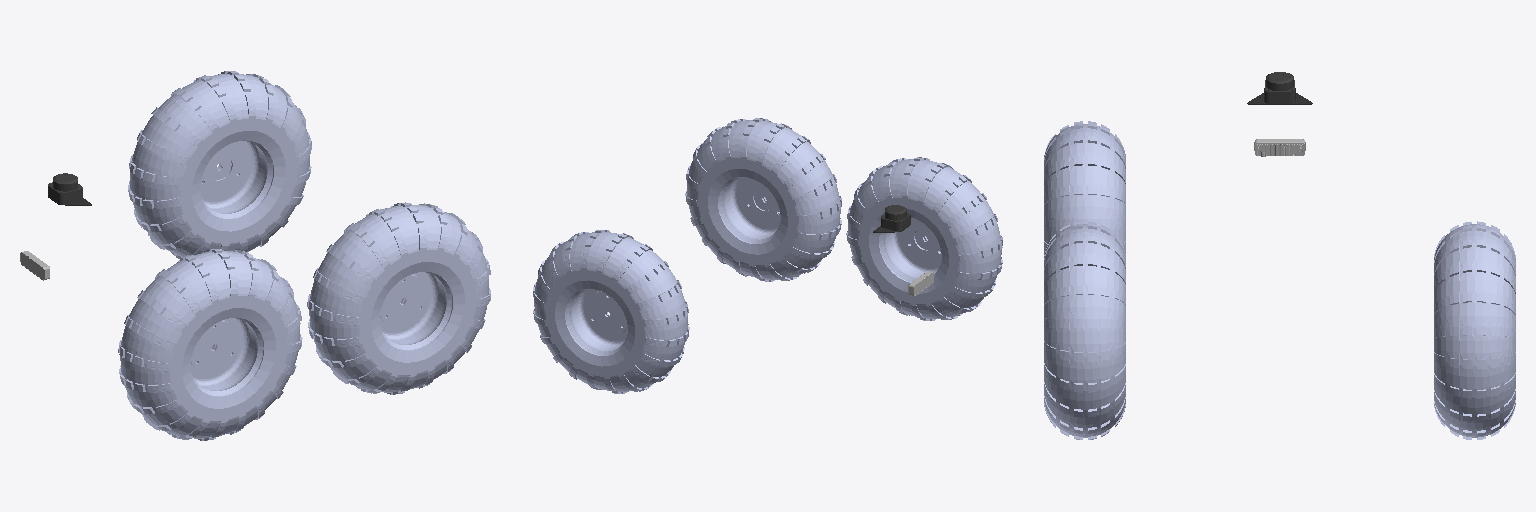
The robot description file, URDF, robot "four_w_amr":
<?xml version="1.0" encoding="utf-8"?>
<!-- This URDF was automatically created by SolidWorks to URDF Exporter! Originally created by [author] ([email redacted]) 
     Commit Version: 1.6.0-1-g15f4949  Build Version: 1.6.7594.29634
     For more information, please see http://wiki.ros.org/sw_urdf_exporter -->
<robot
  name="four_w_amr">
  <link
    name="base_link">
    <inertial>
      <origin
        xyz="0.00132416201656352 -4.00565660888191E-05 0.093887625159828"
        rpy="0 0 0" />
      <mass
        value="17.8411234664058" />
      <inertia
        ixx="0.328687588345585"
        ixy="2.75858430566931E-06"
        ixz="1.36193497080432E-09"
        iyy="0.943624110989737"
        iyz="-2.0065714008513E-05"
        izz="1.20132457872936" />
    </inertial>
    <visual>
      <origin
        xyz="0 0 0"
        rpy="0 0 0" />
      <geometry>
        <mesh
          filename="package://four_w_amr/meshes/base_link.STL" />
      </geometry>
      <material
        name="">
        <color
          rgba="0.898039215686275 0.917647058823529 0.929411764705882 1" />
      </material>
    </visual>
    <collision>
      <origin
        xyz="0 0 0"
        rpy="0 0 0" />
      <geometry>
        <mesh
          filename="package://four_w_amr/meshes/base_link.STL" />
      </geometry>
    </collision>
  </link>
  <link
    name="front_left_link">
    <inertial>
      <origin
        xyz="-5.61791044517701E-08 1.2103102539629E-07 -0.00662845703313497"
        rpy="0 0 0" />
      <mass
        value="1.97267456623346" />
      <inertia
        ixx="0.0170661388139624"
        ixy="3.38062083817817E-08"
        ixz="6.07545764173623E-09"
        iyy="0.0170661785645029"
        iyz="-1.47796904219559E-08"
        izz="0.0284885448647056" />
    </inertial>
    <visual>
      <origin
        xyz="0 0 0"
        rpy="0 0 0" />
      <geometry>
        <mesh
          filename="package://four_w_amr/meshes/front_left_link.STL" />
      </geometry>
      <material
        name="">
        <color
          rgba="0.792156862745098 0.819607843137255 0.933333333333333 1" />
      </material>
    </visual>
    <collision>
      <origin
        xyz="0 0 0"
        rpy="0 0 0" />
      <geometry>
        <mesh
          filename="package://four_w_amr/meshes/front_left_link.STL" />
      </geometry>
    </collision>
  </link>
  <joint
    name="front_left_joint"
    type="continuous">
    <origin
      xyz="-0.2115 -0.3575 0.038368"
      rpy="-1.5708 0 3.1416" />
    <parent
      link="base_link" />
    <child
      link="front_left_link" />
    <axis
      xyz="0 0 1" />
    <limit
      effort="15"
      velocity="6" />
    <dynamics
      damping="0.1"
      friction="0.1" />
  </joint>
  <link
    name="front_right_link">
    <inertial>
      <origin
        xyz="5.6179104590548E-08 1.21031025403229E-07 0.00662845703313492"
        rpy="0 0 0" />
      <mass
        value="1.97267456623345" />
      <inertia
        ixx="0.0170661388139623"
        ixy="-3.38062084587242E-08"
        ixz="6.0754576444626E-09"
        iyy="0.0170661785645029"
        iyz="1.47796904056695E-08"
        izz="0.0284885448647054" />
    </inertial>
    <visual>
      <origin
        xyz="0 0 0"
        rpy="0 0 0" />
      <geometry>
        <mesh
          filename="package://four_w_amr/meshes/front_right_link.STL" />
      </geometry>
      <material
        name="">
        <color
          rgba="0.792156862745098 0.819607843137255 0.933333333333333 1" />
      </material>
    </visual>
    <collision>
      <origin
        xyz="0 0 0"
        rpy="0 0 0" />
      <geometry>
        <mesh
          filename="package://four_w_amr/meshes/front_right_link.STL" />
      </geometry>
    </collision>
  </link>
  <joint
    name="front_right_joint"
    type="continuous">
    <origin
      xyz="-0.2115 0.3575 0.038368"
      rpy="-1.5708 0 3.1416" />
    <parent
      link="base_link" />
    <child
      link="front_right_link" />
    <axis
      xyz="0 0 -1" />
    <limit
      effort="15"
      velocity="6" />
    <dynamics
      damping="0.1"
      friction="0.1" />
  </joint>
  <link
    name="back_right_link">
    <inertial>
      <origin
        xyz="5.61791046460591E-08 1.21031025070162E-07 0.00662845703313508"
        rpy="0 0 0" />
      <mass
        value="1.97267456623344" />
      <inertia
        ixx="0.0170661388139624"
        ixy="-3.3806208436567E-08"
        ixz="6.07545762905059E-09"
        iyy="0.0170661785645027"
        iyz="1.47796903984498E-08"
        izz="0.0284885448647054" />
    </inertial>
    <visual>
      <origin
        xyz="0 0 0"
        rpy="0 0 0" />
      <geometry>
        <mesh
          filename="package://four_w_amr/meshes/back_right_link.STL" />
      </geometry>
      <material
        name="">
        <color
          rgba="0.792156862745098 0.819607843137255 0.933333333333333 1" />
      </material>
    </visual>
    <collision>
      <origin
        xyz="0 0 0"
        rpy="0 0 0" />
      <geometry>
        <mesh
          filename="package://four_w_amr/meshes/back_right_link.STL" />
      </geometry>
    </collision>
  </link>
  <joint
    name="back_right_joint"
    type="continuous">
    <origin
      xyz="0.2115 0.3575 0.038368"
      rpy="-1.5708 0 3.1416" />
    <parent
      link="base_link" />
    <child
      link="back_right_link" />
    <axis
      xyz="0 0 -1" />
    <limit
      effort="15"
      velocity="6" />
    <dynamics
      damping="0.1"
      friction="0.1" />
  </joint>
  <link
    name="back_left_link">
    <inertial>
      <origin
        xyz="5.61791043407478E-08 1.21031025576701E-07 0.00662845703313508"
        rpy="0 0 0" />
      <mass
        value="1.97267456623345" />
      <inertia
        ixx="0.0170661388139623"
        ixy="-3.38062083903782E-08"
        ixz="6.07545766614404E-09"
        iyy="0.0170661785645028"
        iyz="1.47796904238501E-08"
        izz="0.0284885448647054" />
    </inertial>
    <visual>
      <origin
        xyz="0 0 0"
        rpy="0 0 0" />
      <geometry>
        <mesh
          filename="package://four_w_amr/meshes/back_left_link.STL" />
      </geometry>
      <material
        name="">
        <color
          rgba="0.792156862745098 0.819607843137255 0.933333333333333 1" />
      </material>
    </visual>
    <collision>
      <origin
        xyz="0 0 0"
        rpy="0 0 0" />
      <geometry>
        <mesh
          filename="package://four_w_amr/meshes/back_left_link.STL" />
      </geometry>
    </collision>
  </link>
  <joint
    name="back_left_joint"
    type="continuous">
    <origin
      xyz="0.2115 -0.3575 0.038368"
      rpy="-1.5708 0 0" />
    <parent
      link="base_link" />
    <child
      link="back_left_link" />
    <axis
      xyz="0 0 -1" />
    <limit
      effort="15"
      velocity="6" />
    <dynamics
      damping="0.1"
      friction="0.1" />
  </joint>
  <link
    name="lidar_link">
    <inertial>
      <origin
        xyz="1.23660133061199E-06 -8.84795212065957E-08 -0.0229335585473118"
        rpy="0 0 0" />
      <mass
        value="0.102964031832174" />
      <inertia
        ixx="3.53904087980356E-05"
        ixy="5.8993783465795E-14"
        ixz="-1.54015899863962E-09"
        iyy="3.53873606071173E-05"
        iyz="2.08507446415272E-10"
        izz="4.37195711738173E-05" />
    </inertial>
    <visual>
      <origin
        xyz="0 0 0"
        rpy="0 0 0" />
      <geometry>
        <mesh
          filename="package://four_w_amr/meshes/lidar_link.STL" />
      </geometry>
      <material
        name="">
        <color
          rgba="0.298039215686275 0.298039215686275 0.298039215686275 1" />
      </material>
    </visual>
    <collision>
      <origin
        xyz="0 0 0"
        rpy="0 0 0" />
      <geometry>
        <mesh
          filename="package://four_w_amr/meshes/lidar_link.STL" />
      </geometry>
    </collision>
  </link>
  <joint
    name="lidar_joint"
    type="continuous">
    <origin
      xyz="-0.33522 0 0.28431"
      rpy="0 0 3.1416" />
    <parent
      link="base_link" />
    <child
      link="lidar_link" />
    <axis
      xyz="0 0 1" />
    <limit
      effort="1"
      velocity="1" />
    <dynamics
      damping="0.1"
      friction="0.1" />
  </joint>
  <link
    name="realsense_link">
    <inertial>
      <origin
        xyz="-0.00802647627990055 0.000192368576515587 0.000102433817246436"
        rpy="0 0 0" />
      <mass
        value="0.0200496143535985" />
      <inertia
        ixx="1.51661130781659E-05"
        ixy="1.97324525450553E-09"
        ixz="-4.68000006067364E-09"
        iyy="1.55788303975685E-06"
        iyz="1.44223594502936E-08"
        izz="1.39532379059951E-05" />
    </inertial>
    <visual>
      <origin
        xyz="0 0 0"
        rpy="0 0 0" />
      <geometry>
        <mesh
          filename="package://four_w_amr/meshes/realsense_link.STL" />
      </geometry>
      <material
        name="">
        <color
          rgba="0.752941176470588 0.752941176470588 0.752941176470588 1" />
      </material>
    </visual>
    <collision>
      <origin
        xyz="0 0 0"
        rpy="0 0 0" />
      <geometry>
        <mesh
          filename="package://four_w_amr/meshes/realsense_link.STL" />
      </geometry>
    </collision>
  </link>
  <joint
    name="realsense_joint"
    type="fixed">
    <origin
      xyz="-0.40975 0 0.112"
      rpy="0 0 3.1416" />
    <parent
      link="base_link" />
    <child
      link="realsense_link" />
    <axis
      xyz="0 0 0" />
  </joint>
  <link
    name="top_plate_link">
    <inertial>
      <origin
        xyz="5.55111512312578E-17 1.42910579648926E-17 -0.00100000000000003"
        rpy="0 0 0" />
      <mass
        value="0.0112364696805726" />
      <inertia
        ixx="7.96956397299821E-06"
        ixy="7.61358133759553E-21"
        ixz="1.07395448339795E-21"
        iyy="2.69451472759011E-06"
        iyz="-1.16024066035317E-21"
        izz="1.06565877208013E-05" />
    </inertial>
    <visual>
      <origin
        xyz="0 0 0"
        rpy="0 0 0" />
      <geometry>
        <mesh
          filename="package://four_w_amr/meshes/top_plate_link.STL" />
      </geometry>
      <material
        name="">
        <color
          rgba="0.250980392156863 0.250980392156863 0.250980392156863 1" />
      </material>
    </visual>
    <collision>
      <origin
        xyz="0 0 0"
        rpy="0 0 0" />
      <geometry>
        <mesh
          filename="package://four_w_amr/meshes/top_plate_link.STL" />
      </geometry>
    </collision>
  </link>
  <joint
    name="top_plate_joint"
    type="fixed">
    <origin
      xyz="-0.331046700913836 0 0.243009667991878"
      rpy="0 0 3.14159265358979" />
    <parent
      link="base_link" />
    <child
      link="top_plate_link" />
    <axis
      xyz="0 0 0" />
  </joint>
</robot>

--- Facts derived from the render (not from the file) ---
The picture shows the robot from 3 angles, left to right: view 1: azimuth 30°, elevation 25°; view 2: azimuth 150°, elevation 25°; view 3: azimuth 270°, elevation 25°; orthographic projection.
Robot: four_w_amr — 8 links, 7 joints (5 continuous, 2 fixed); root link base_link; default pose: all joints at 0.
Visible links, largest first — view 1: back_left_link, front_left_link, back_right_link, lidar_link; view 2: back_left_link, back_right_link, front_left_link, lidar_link; view 3: back_right_link, back_left_link, front_left_link, lidar_link, realsense_link.
Boxes of the visible links, x1,y1,x2,y2 form: back_left_link: [307, 202, 490, 394]; front_left_link: [118, 249, 302, 440]; back_right_link: [128, 71, 311, 258]; lidar_link: [48, 173, 82, 203]; back_left_link: [685, 118, 841, 281]; back_right_link: [533, 230, 689, 393]; front_left_link: [846, 157, 1002, 320]; lidar_link: [881, 205, 910, 231]; back_right_link: [1434, 221, 1515, 439]; back_left_link: [1044, 221, 1125, 439]; front_left_link: [1044, 121, 1125, 254]; lidar_link: [1264, 72, 1295, 103]; realsense_link: [1254, 139, 1305, 156].
Size in the robot's own frame: 0.8162 by 0.84 by 0.4406 metres.
Meshes: 8 distinct files referenced, 6 mesh visuals loaded (6 binary STL); not drawn: 2 (reference not matched to a file when rendering).